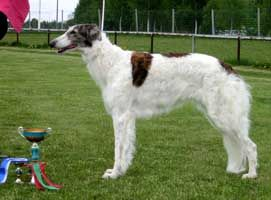borzoi: (42, 23, 261, 182)
